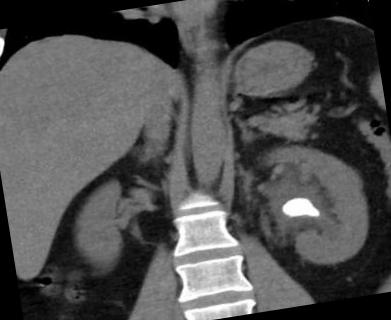Tas_Var: (274, 190, 328, 229)
